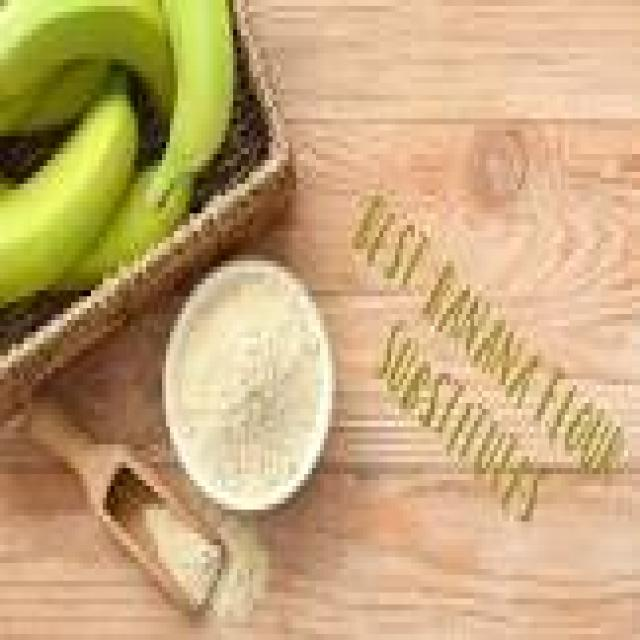banana: (0, 83, 138, 308), (0, 0, 173, 112), (60, 166, 193, 290), (151, 0, 233, 201), (0, 60, 106, 136), (20, 60, 110, 136)
